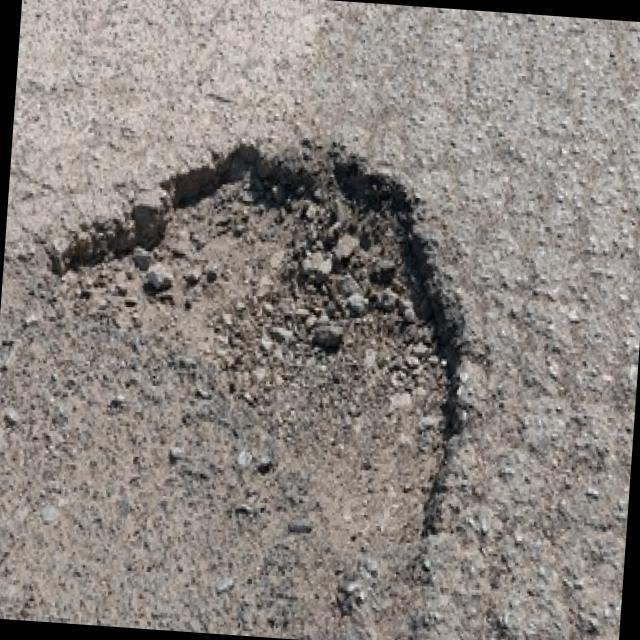pothole: (37, 121, 483, 556)
